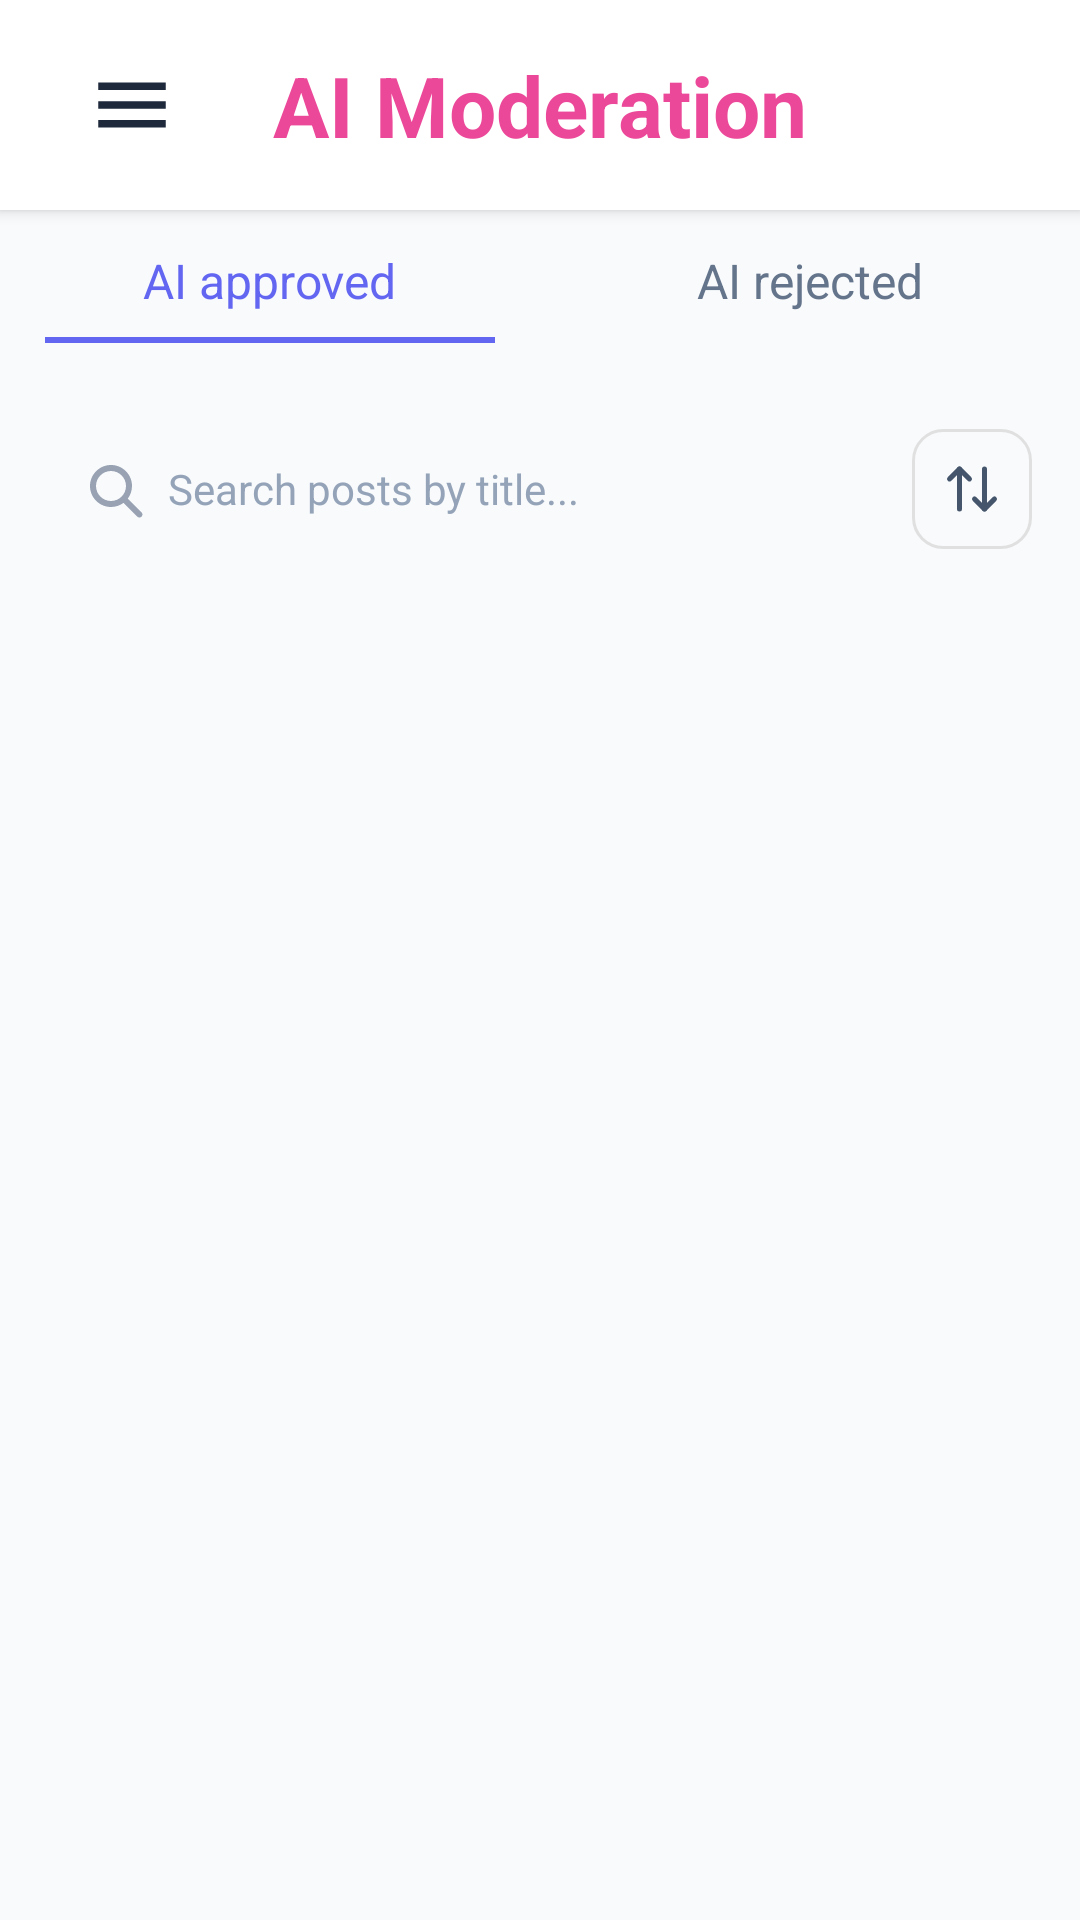

Icons on this 1080x1920 Android screen, each with the point to tap as (x,y):
Menu Icon: (132,105)
Sort Icon: (972,489)
